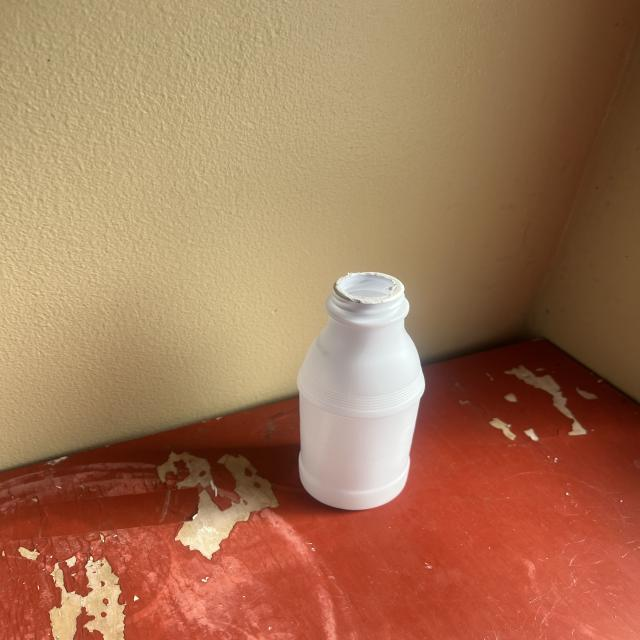HDPE_Bottle: (298, 273, 424, 509)
